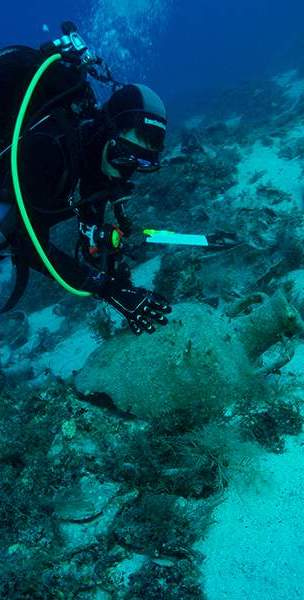amphora: (74, 288, 304, 437)
